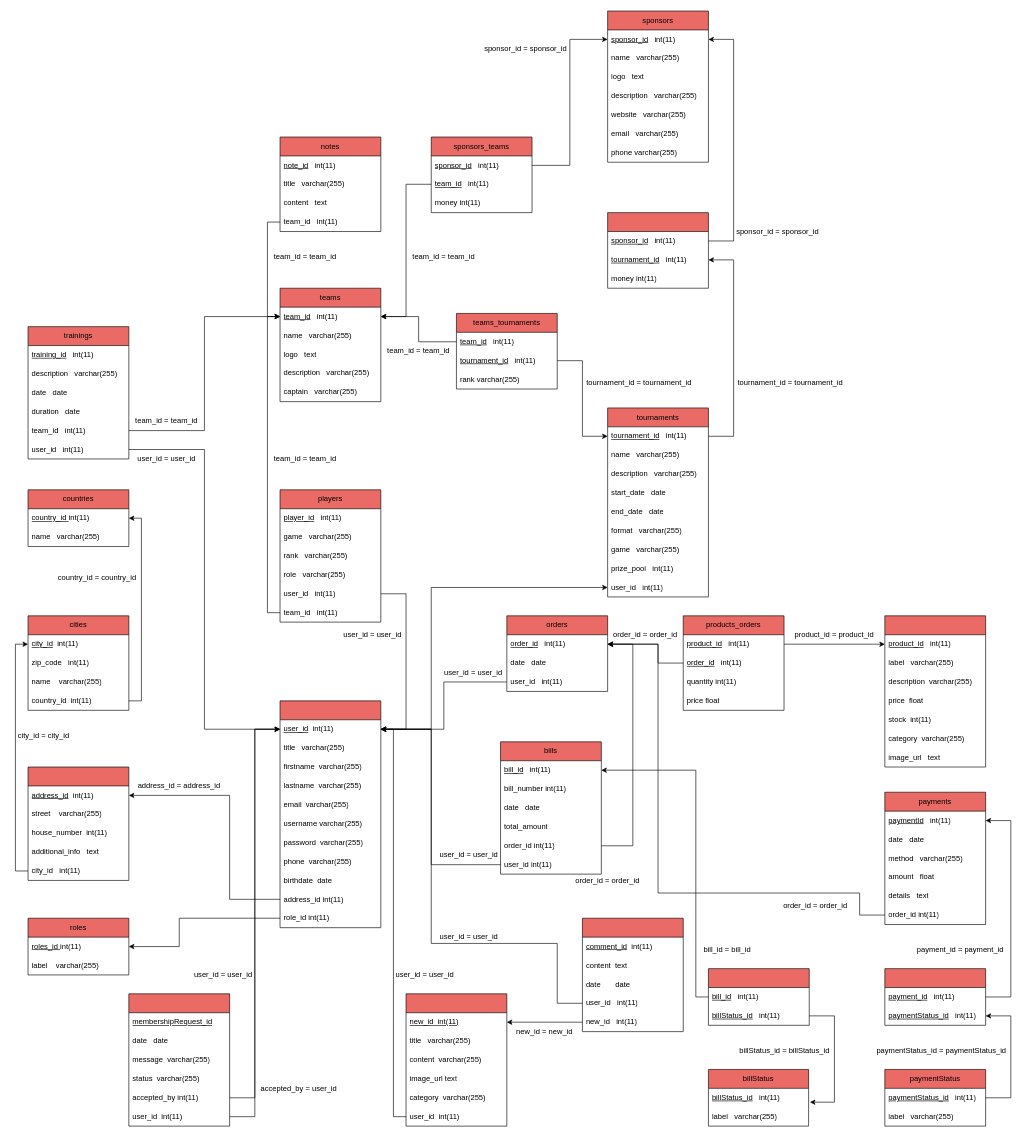
The diagram is 1028 pixels wide and 1137 high, and some of its shapes have lost their labels. Each missing label, with the box of its shape:
addresses: (27, 766, 129, 880)
bills_billStatus: (708, 968, 809, 1025)
comments: (582, 918, 683, 1032)
membershipRequests: (128, 993, 230, 1126)
news: (405, 993, 507, 1126)
payments_paymentStatus: (884, 968, 986, 1025)
products: (884, 615, 986, 767)
sponsors_tournaments: (607, 212, 708, 288)
users: (279, 700, 381, 928)
